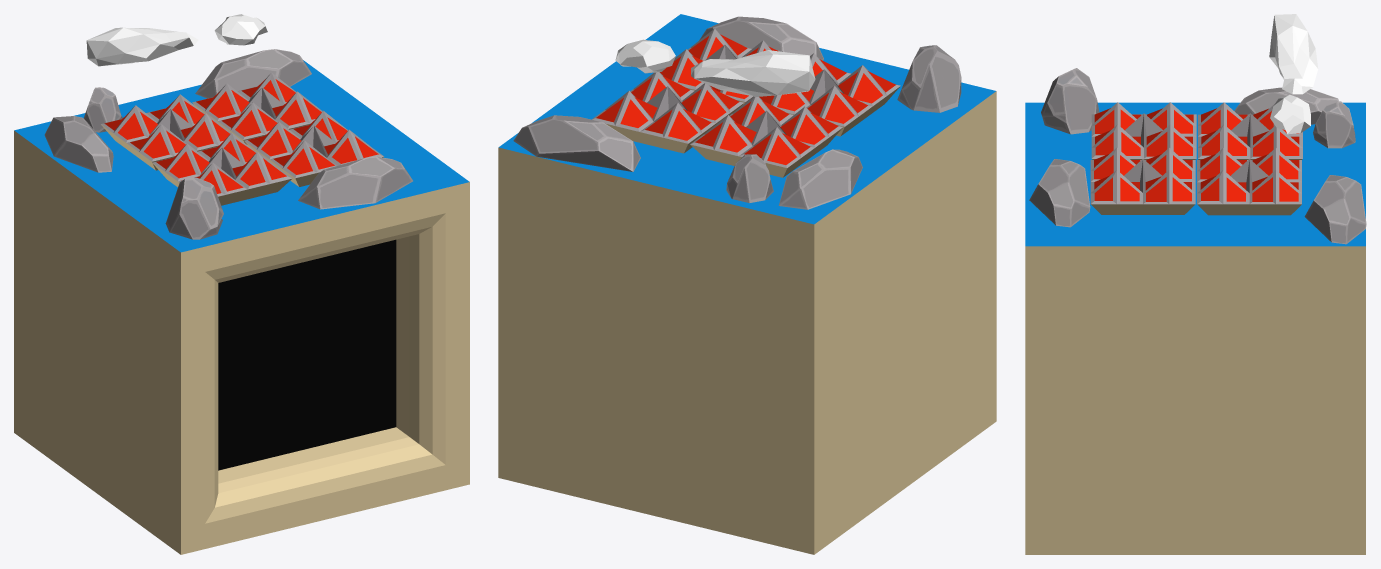
File: Show1.fbx
3 views of the same model, side by side, from view 1: azimuth 30°, elevation 25°; view 2: azimuth 150°, elevation 25°; view 3: azimuth 270°, elevation 25° (orthographic). The views are drawn at different scales.
Parts seen in each view (by area): view 1: Cube.002; view 2: Cube.002; view 3: Cube.002.
Boxes of the visible parts, left/top/right/bottom form: Cube.002: left=14, top=14, right=469, bottom=554; Cube.002: left=498, top=14, right=996, bottom=554; Cube.002: left=1025, top=14, right=1366, bottom=554.
Size of the model in its own units: 200 by 273 by 200.
